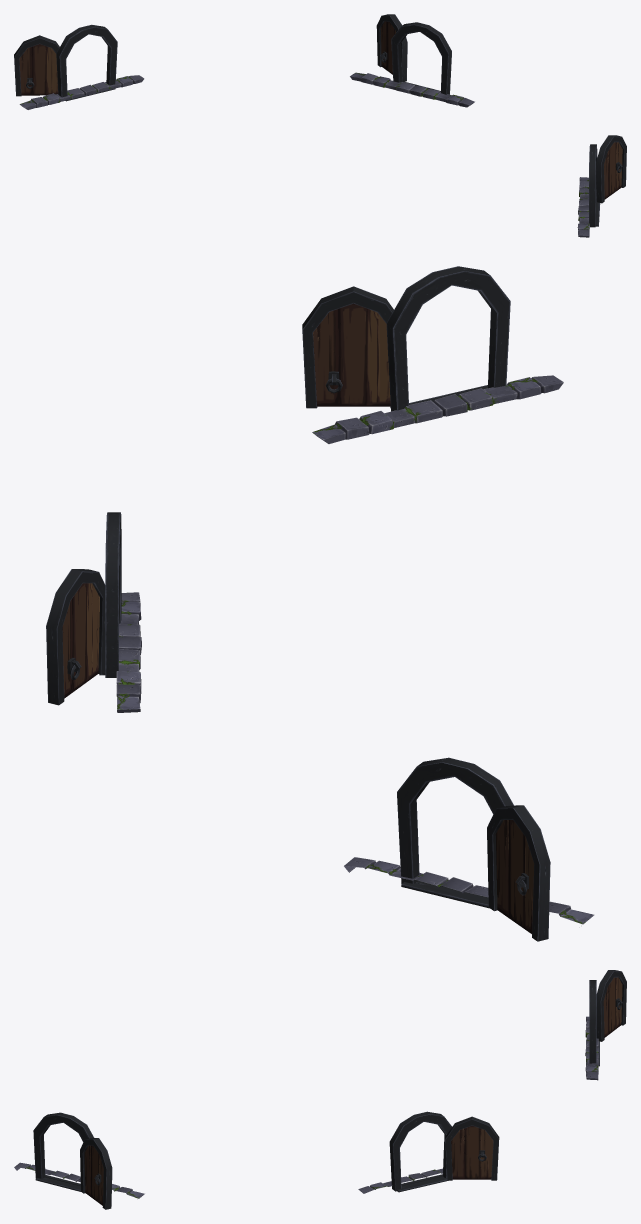
Rendered from InerDoors.fbx.
3 views of the same model, one above another, from view 1: azimuth 30°, elevation 25°; view 2: azimuth 150°, elevation 25°; view 3: azimuth 270°, elevation 25° (orthographic). The views are drawn at different scales.
Parts seen in each view (by area): view 1: MOD_WallTrim_01_M_angle_2.002, MOD_WallTrim_01_M_angle_2.003, MOD_Gateway_Door_01_med_02_door.001; view 2: MOD_Gateway_Door_01_med_02_door.001, MOD_WallTrim_01_M_angle_2.002, MOD_WallTrim_01_M_angle_2.003; view 3: MOD_WallTrim_01_M_angle_2.003, MOD_Gateway_Door_01_med_02_door.001, MOD_WallTrim_01_M_angle_2.002.
Boxes of the visible parts, left/top/right/bottom form: MOD_WallTrim_01_M_angle_2.002: left=14, top=24, right=144, bottom=109; MOD_WallTrim_01_M_angle_2.003: left=350, top=14, right=474, bottom=107; MOD_Gateway_Door_01_med_02_door.001: left=577, top=135, right=626, bottom=237; MOD_Gateway_Door_01_med_02_door.001: left=302, top=266, right=563, bottom=443; MOD_WallTrim_01_M_angle_2.002: left=344, top=757, right=594, bottom=941; MOD_WallTrim_01_M_angle_2.003: left=46, top=512, right=141, bottom=712; MOD_WallTrim_01_M_angle_2.003: left=358, top=1111, right=499, bottom=1193; MOD_Gateway_Door_01_med_02_door.001: left=14, top=1112, right=144, bottom=1209; MOD_WallTrim_01_M_angle_2.002: left=585, top=970, right=626, bottom=1080.
Bounding box in the file's own units: 18.98 × 3.18 × 25.6.
Materials: 2 (2 with a texture image).
